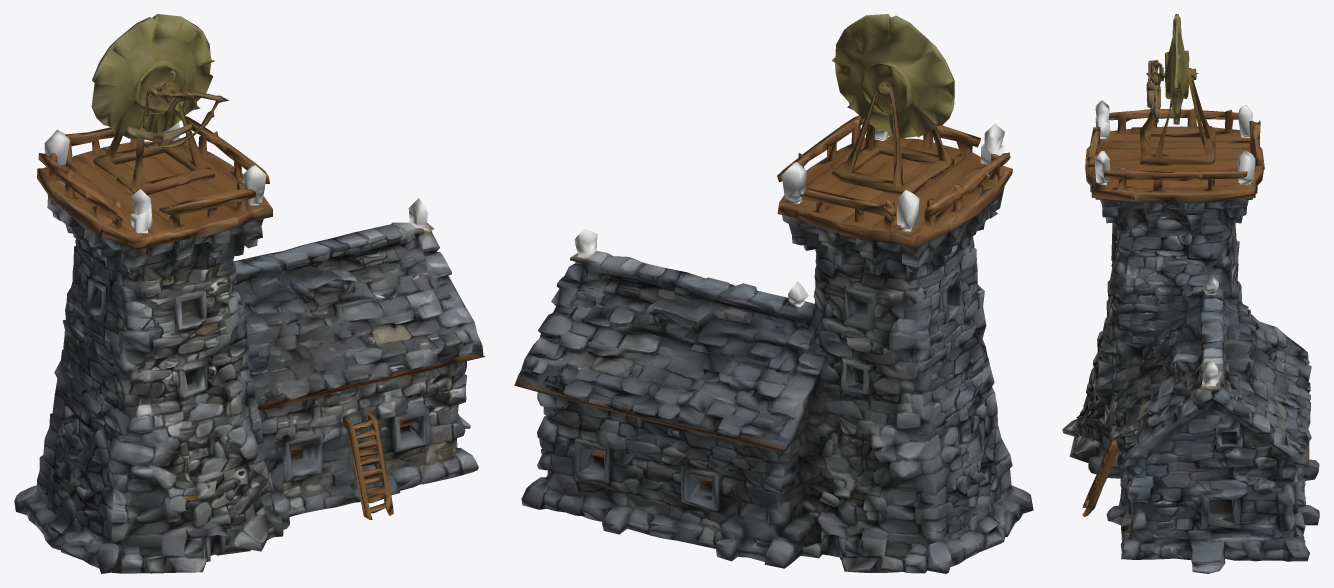
Rendered from h_star.glb.
The picture shows the model from 3 angles, left to right: view 1: azimuth 30°, elevation 25°; view 2: azimuth 150°, elevation 25°; view 3: azimuth 270°, elevation 25°; orthographic projection. The views are drawn at different scales.
Visible parts, largest first — view 1: tripo_node_bbc34142-afa0-4b2a-903a-b0939d2f61e7; view 2: tripo_node_bbc34142-afa0-4b2a-903a-b0939d2f61e7; view 3: tripo_node_bbc34142-afa0-4b2a-903a-b0939d2f61e7.
Boxes of the visible parts, bbox=[...] form: tripo_node_bbc34142-afa0-4b2a-903a-b0939d2f61e7: bbox=[14, 14, 485, 573]; tripo_node_bbc34142-afa0-4b2a-903a-b0939d2f61e7: bbox=[514, 14, 1033, 573]; tripo_node_bbc34142-afa0-4b2a-903a-b0939d2f61e7: bbox=[1062, 14, 1319, 573].
Size of the model in its own units: 0.9145 by 0.9998 by 0.5494.
Materials: 1 (1 with a texture image).
